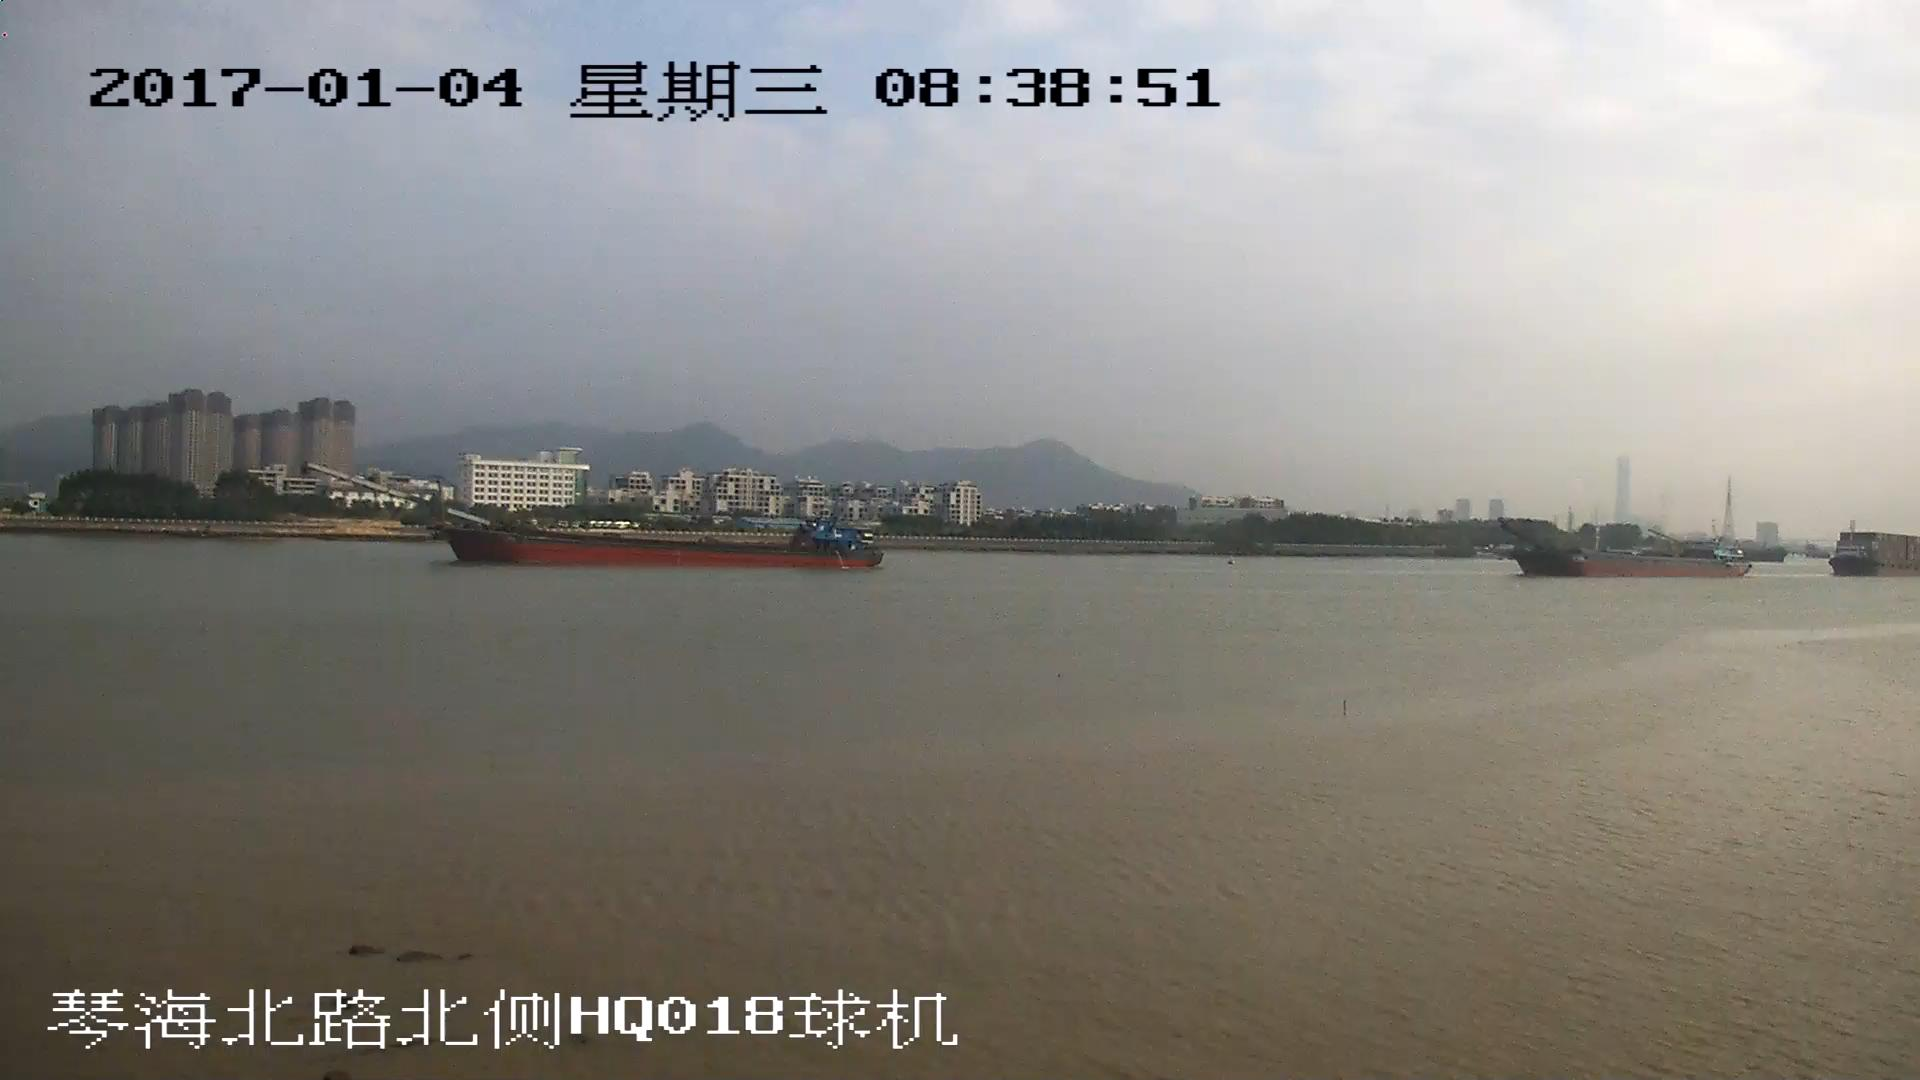bulk cargo carrier: (309, 463, 884, 568), (1501, 522, 1746, 580)
container ship: (1832, 532, 1920, 574)
